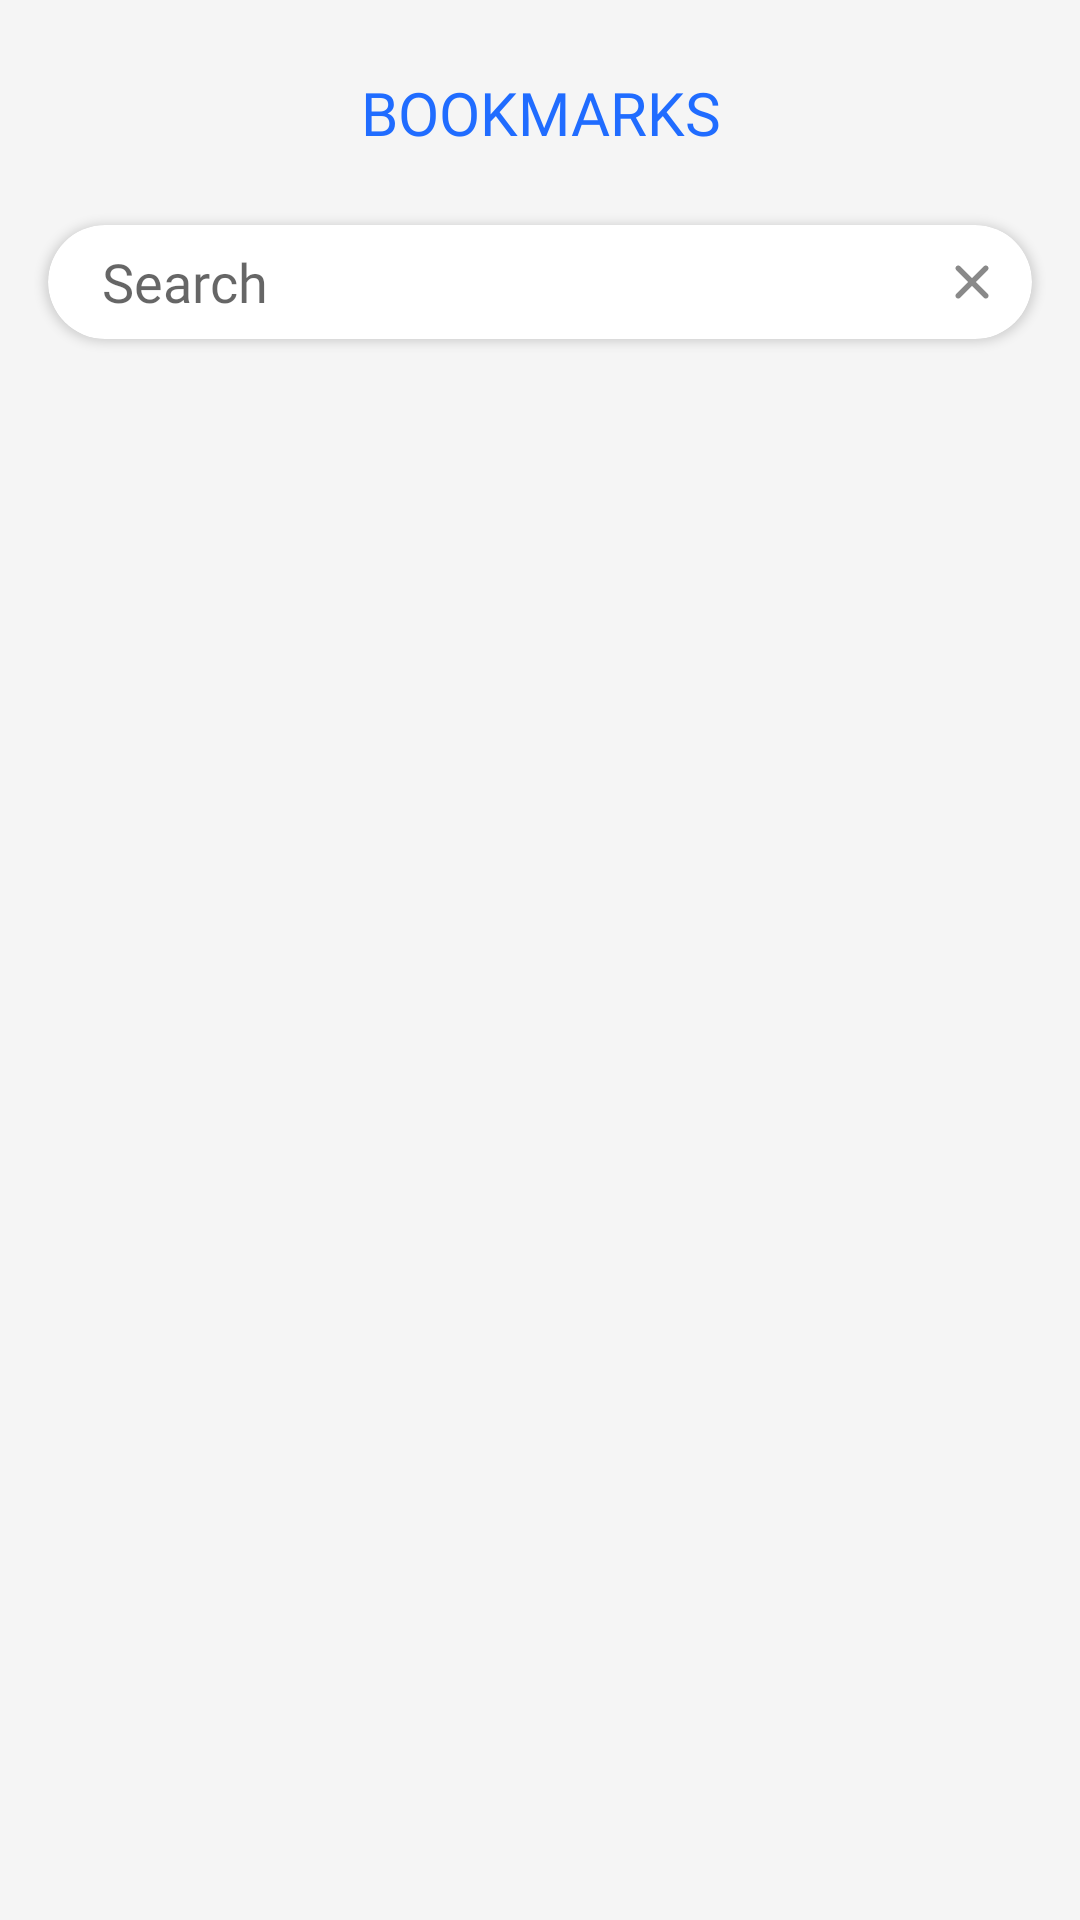

Locate icon controls on the screen. Image size 1080 × 1920, boxes as box=[x1, y1, x2, y2].
cross: box=[955, 265, 989, 299]
